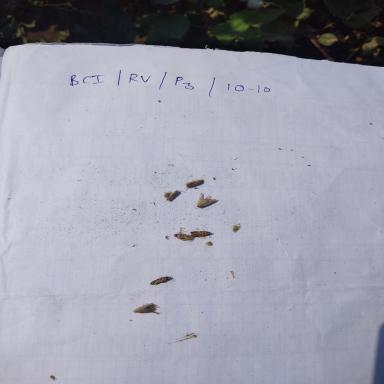pbw: (188, 191, 220, 209), (132, 302, 164, 316), (185, 226, 214, 240), (148, 272, 176, 286), (164, 187, 186, 204), (184, 176, 207, 191), (172, 230, 195, 244)
